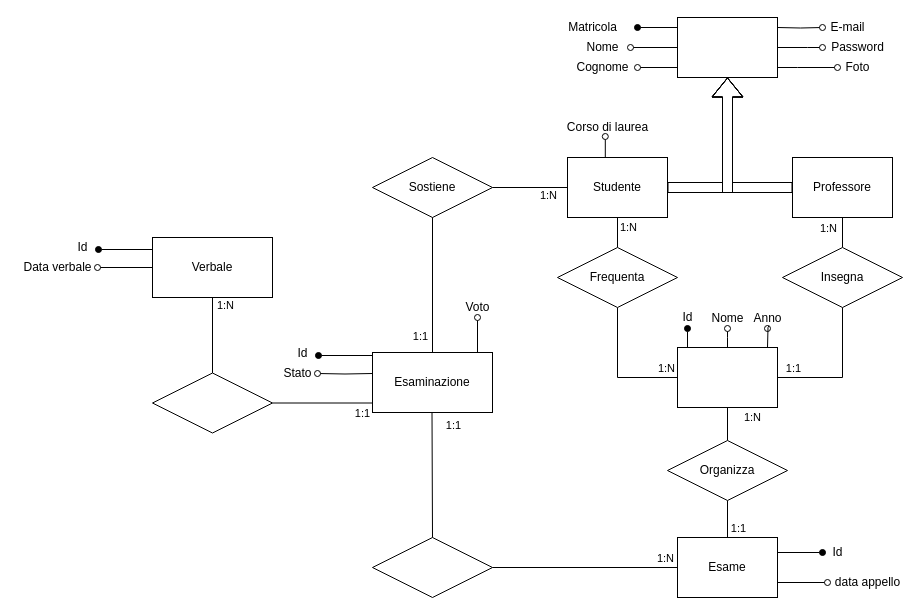
Some shapes in this 924 by 615 pixel diagram are drawn without their labels. The shapes that lost their labels are listed below. From the top down, each one's centre as x and y in pixels, then its label:
At (x=727, y=47): "Utente".
At (x=727, y=377): "Corso".
At (x=212, y=402): "Contiene".
At (x=432, y=567): "Relativa".
